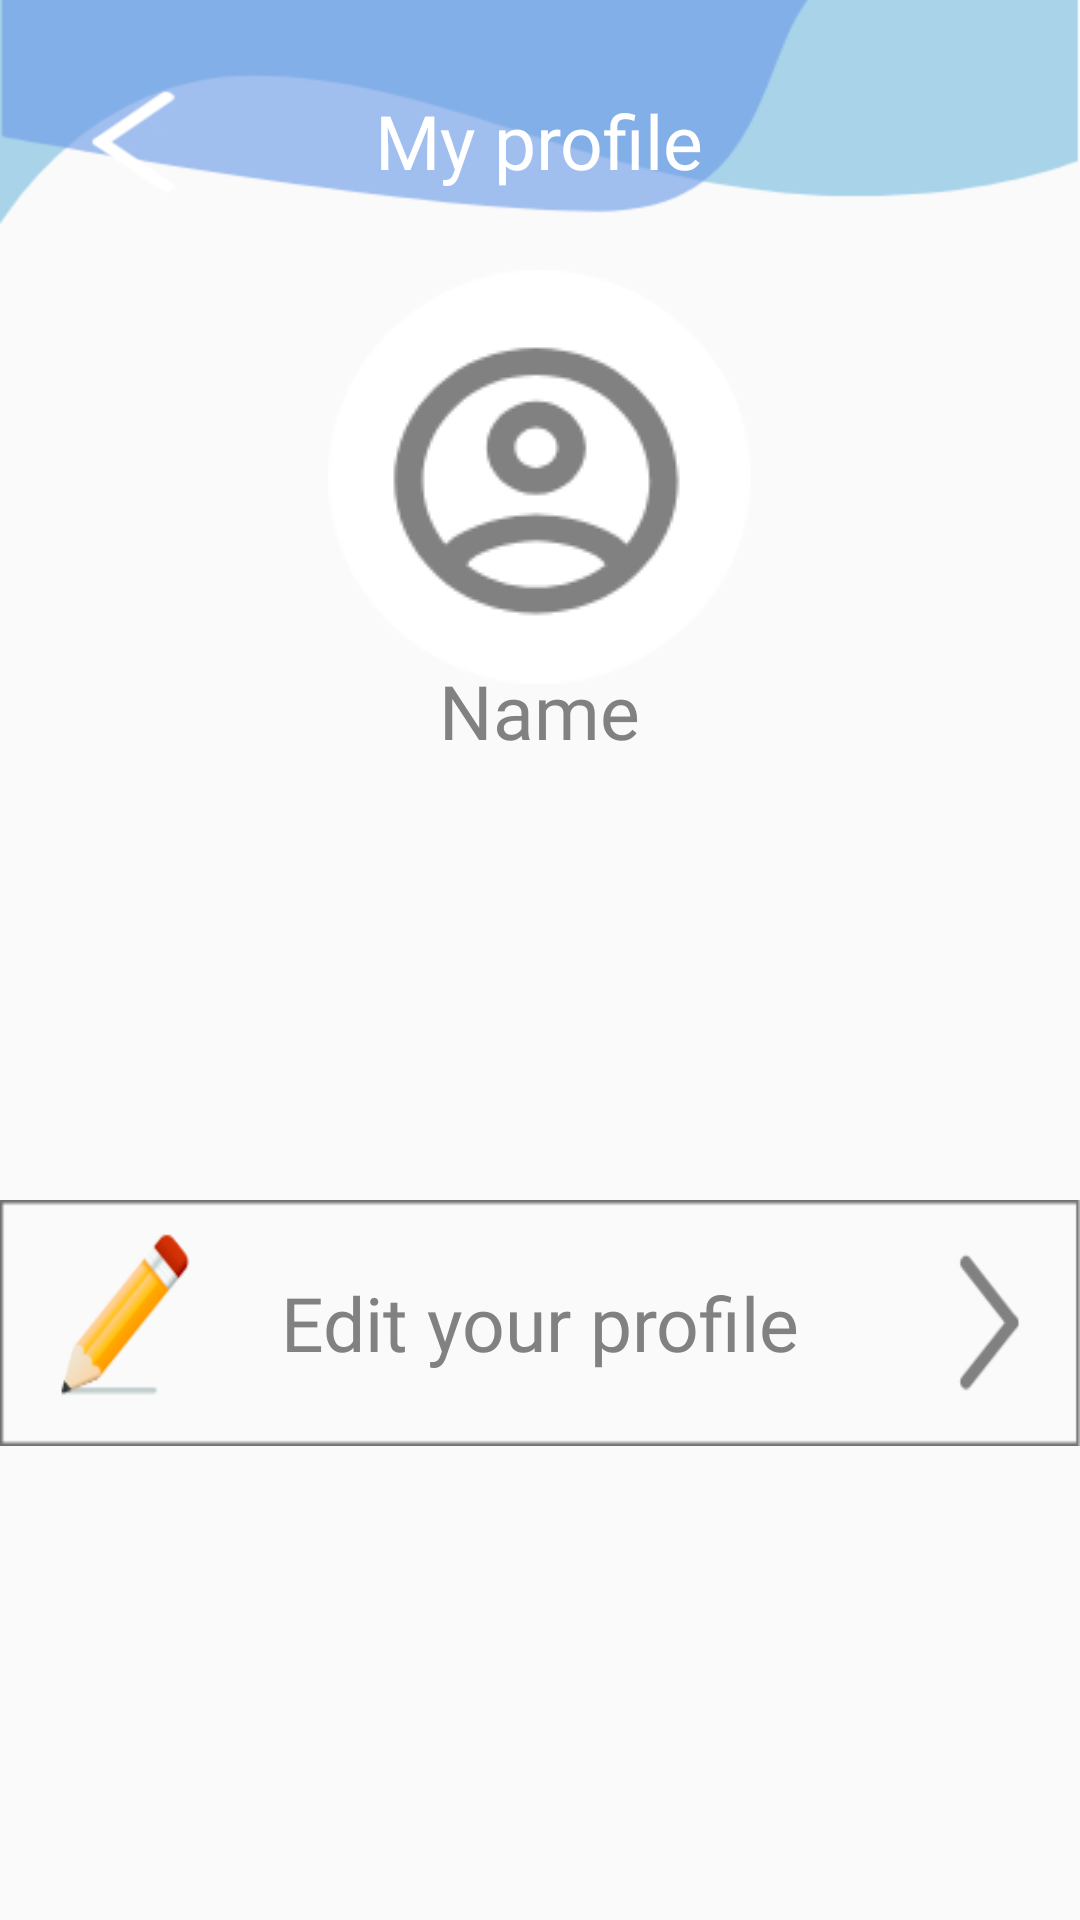

Point at icon controls on the screen. Image size 1080*1920, points as (x=x, y=y).
back arrow: (x=133, y=142)
usericon: (x=536, y=481)
